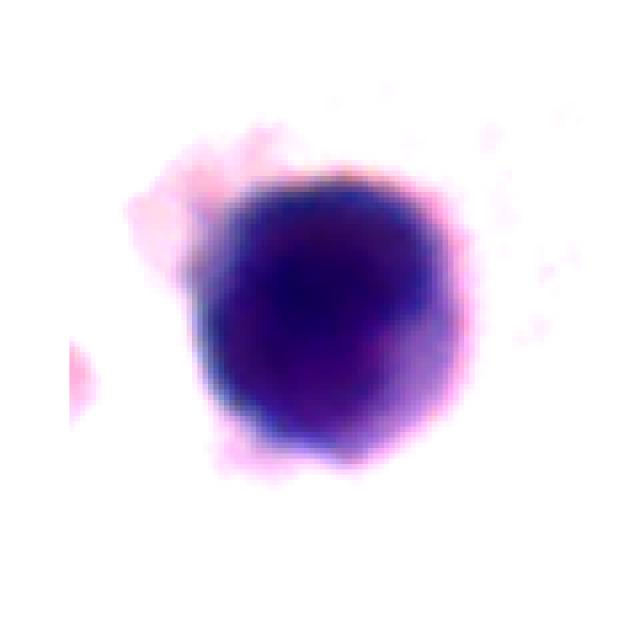WBC: (101, 117, 496, 480)
